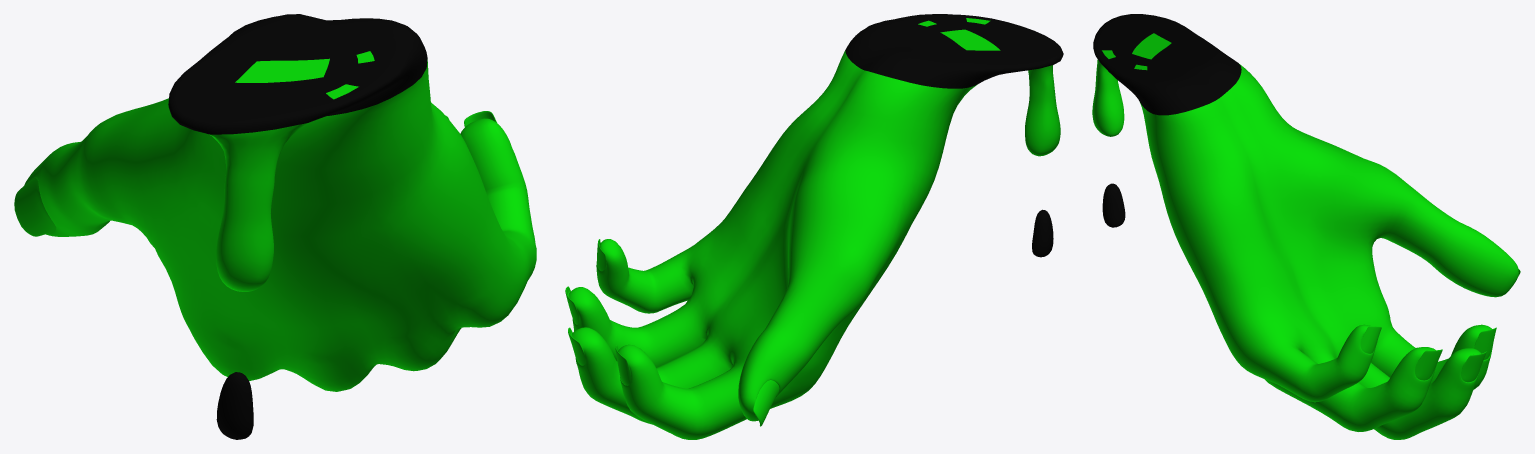
The model's file is PlatformHand_LP.fbx.
3 views of the same model, side by side, from view 1: azimuth 30°, elevation 25°; view 2: azimuth 150°, elevation 25°; view 3: azimuth 270°, elevation 25° (orthographic). The views are drawn at different scales.
Visible parts, largest first — view 1: PlatformHand_LP; view 2: PlatformHand_LP; view 3: PlatformHand_LP.
Boxes of the visible parts, box(x1,y1,x2,y2) form: PlatformHand_LP: box(14, 14, 536, 439); PlatformHand_LP: box(565, 14, 1063, 439); PlatformHand_LP: box(1092, 14, 1520, 439).
Size of the model in its own units: 3145 by 2898 by 3615.
